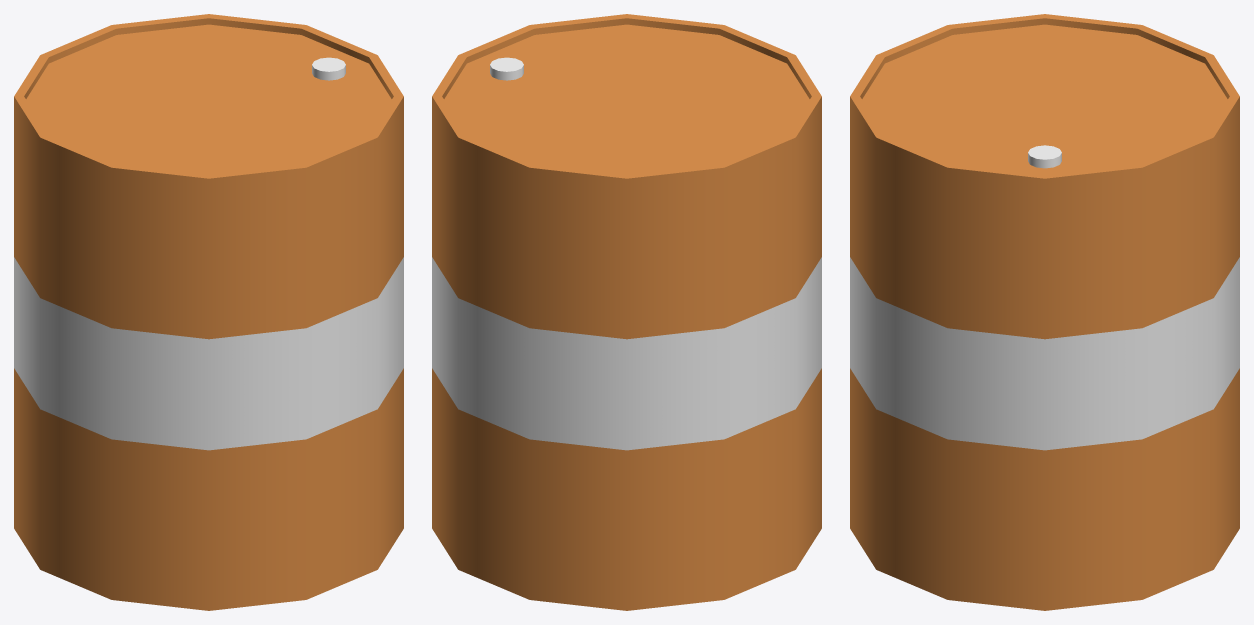
The model's file is Barrel_3.fbx.
3 views of the same model, side by side, from view 1: azimuth 30°, elevation 25°; view 2: azimuth 150°, elevation 25°; view 3: azimuth 270°, elevation 25° (orthographic).
Parts seen in each view (by area): view 1: Barrel_3; view 2: Barrel_3; view 3: Barrel_3.
Part boxes in pixels (<box>): Barrel_3: <box>14,14,403,610</box>; Barrel_3: <box>432,14,821,610</box>; Barrel_3: <box>850,14,1239,610</box>.
Bounding box in the file's own units: 91.24 × 112 × 91.24.
